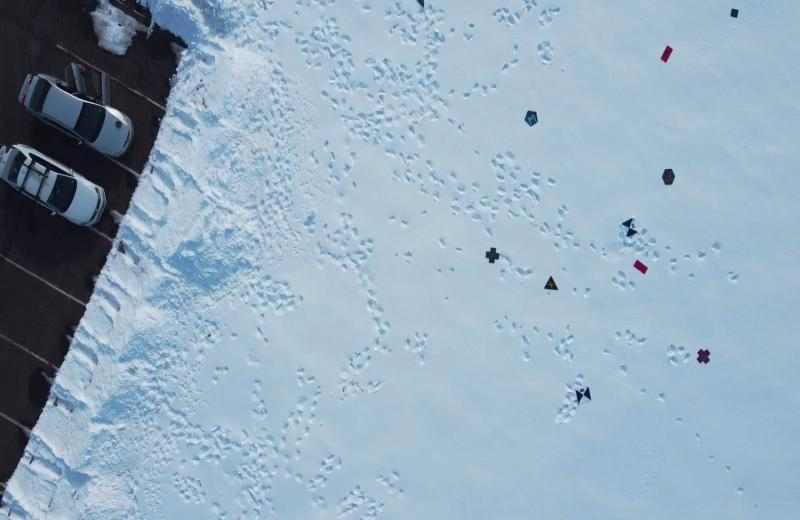Cross: (484, 247, 501, 265), (695, 348, 711, 366)
Hexagon: (660, 168, 676, 188)
Pentagon: (521, 108, 539, 128)
Rectangle: (632, 258, 648, 278), (659, 45, 675, 62)
Square: (728, 8, 741, 22)
Triangle: (544, 273, 560, 294)
